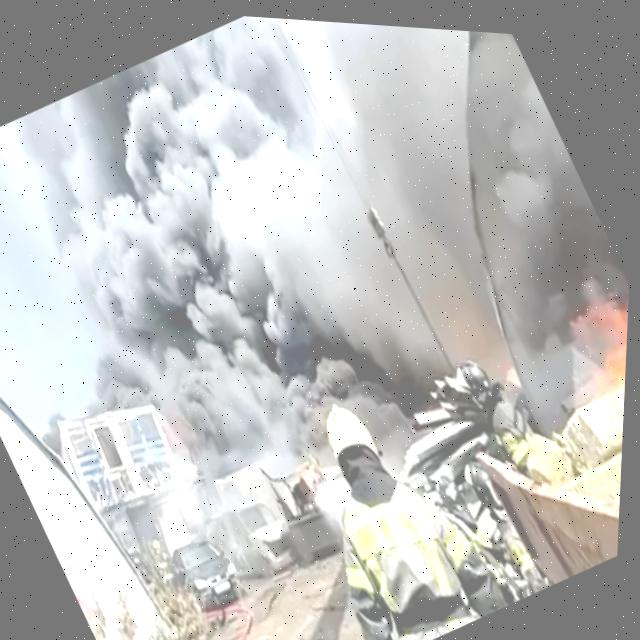Smoke: (0, 0, 489, 556)
